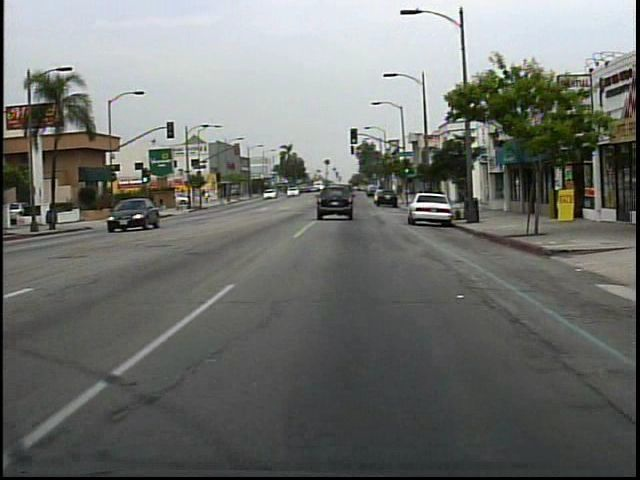person: (204, 188, 212, 207)
